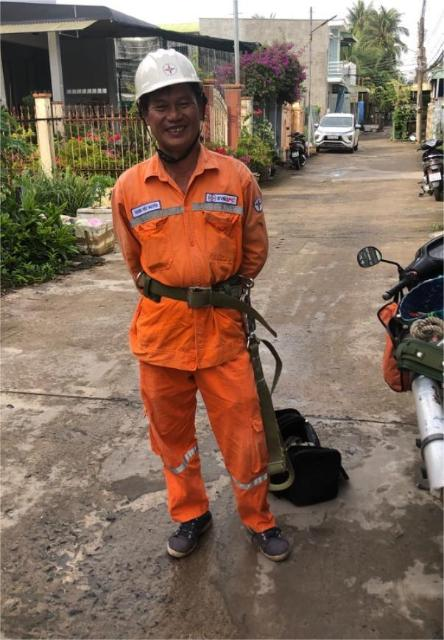harness: (133, 245, 258, 331)
helmet: (130, 49, 210, 111)
shoes: (152, 504, 231, 561), (240, 509, 311, 570)
